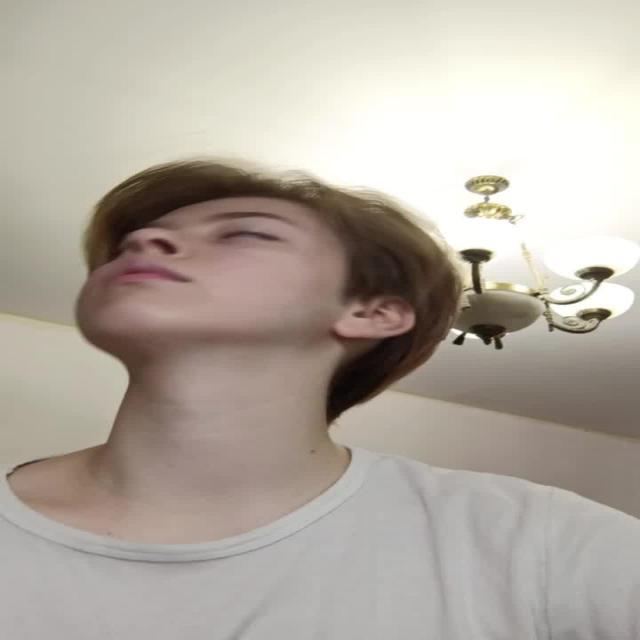earlobe: (328, 322, 375, 340)
eye: (210, 228, 287, 244)
nose: (118, 245, 183, 269)
wholeear: (335, 296, 419, 338)
